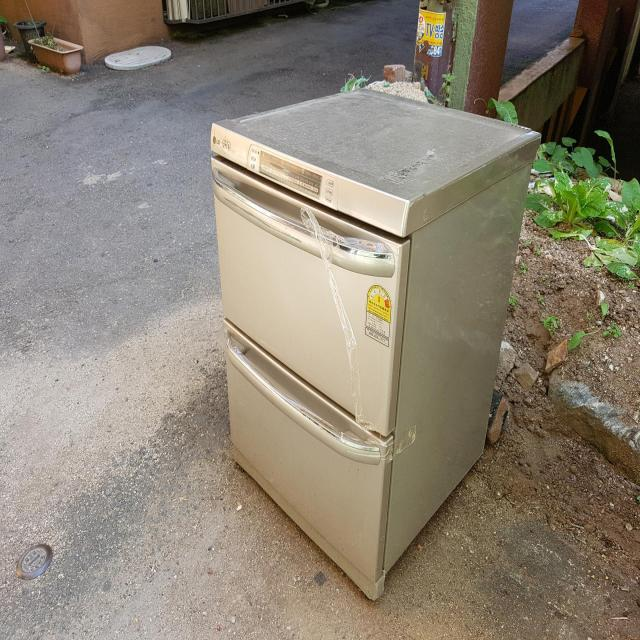refrigerator: (206, 87, 542, 595)
